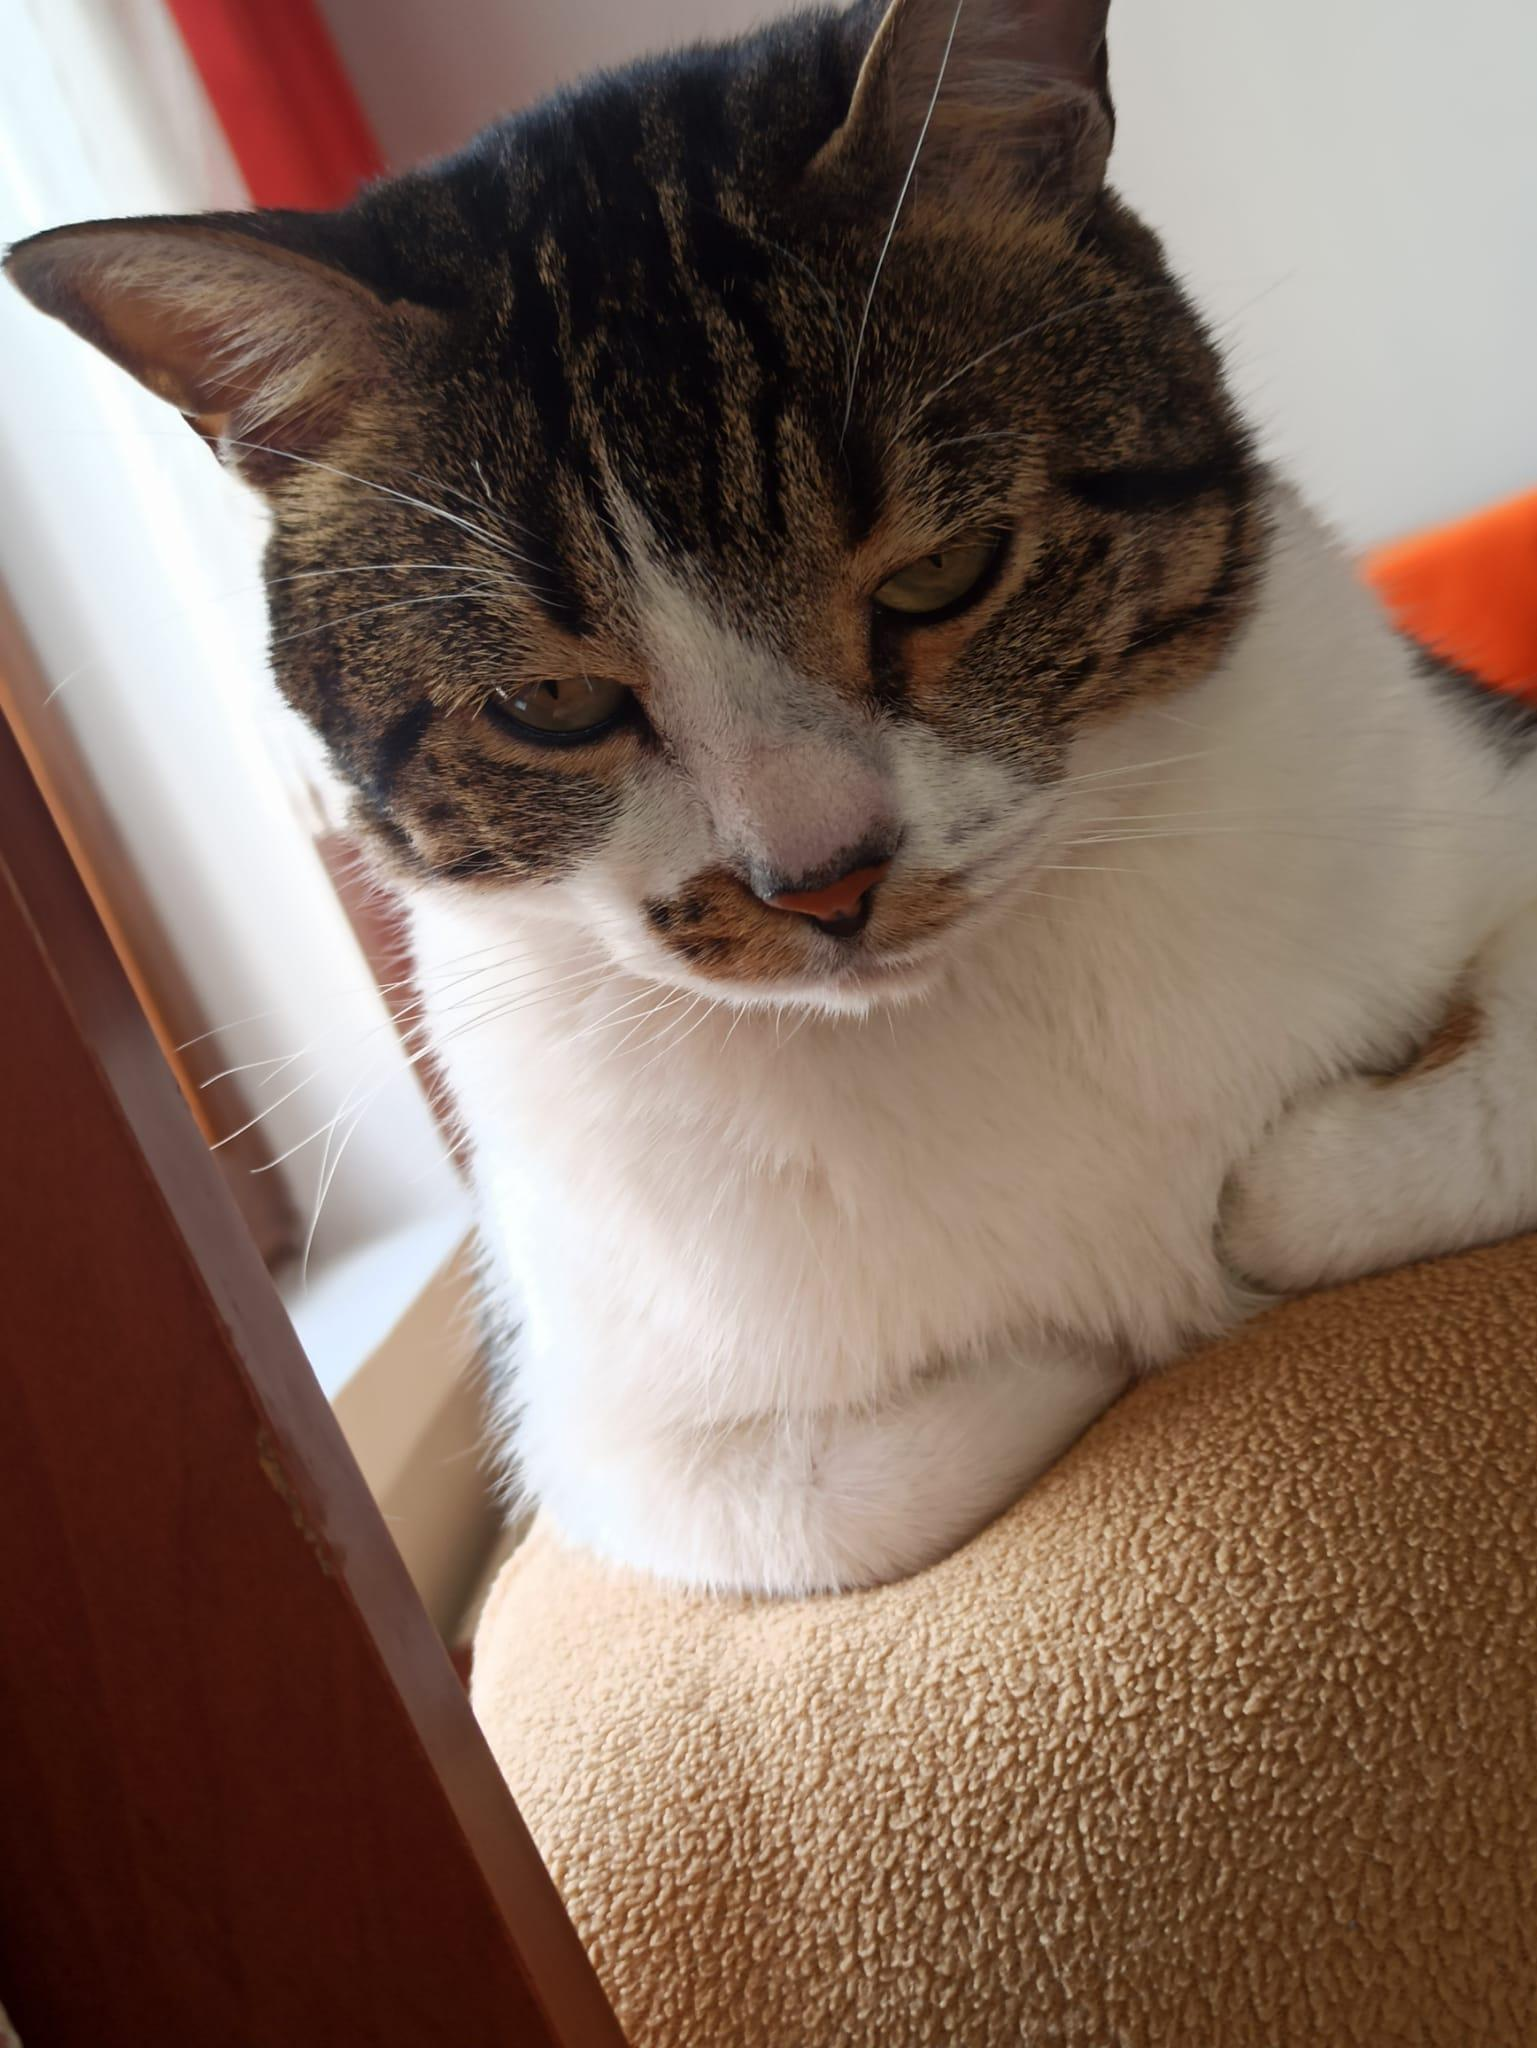kedo: (18, 8, 1531, 1595)
